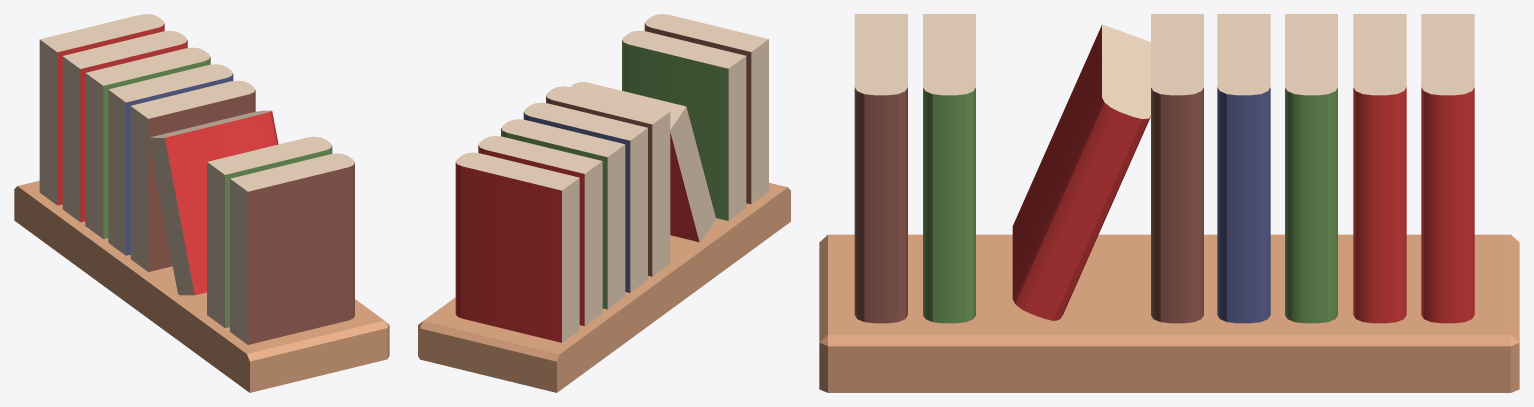
The model's file is Books.fbx.
3 renders of one model, left to right at view 1: azimuth 30°, elevation 25°; view 2: azimuth 150°, elevation 25°; view 3: azimuth 270°, elevation 25°, orthographic. The views are drawn at different scales.
Visible parts, largest first — view 1: Book.009, Shelf.003, Book.016, Book.011, Book.014, Book.015, Book.013, Book.010, Book.012; view 2: Book.015, Shelf.003, Book.010, Book.013, Book.014, Book.009, Book.012, Book.011, Book.016; view 3: Shelf.003, Book.016, Book.012, Book.014, Book.015, Book.009, Book.010, Book.011, Book.013.
Boxes of the visible parts, x1,y1,x2,y2 form: Book.009: (230, 153, 354, 344); Shelf.003: (14, 180, 389, 392); Book.016: (148, 110, 278, 295); Book.011: (130, 80, 255, 271); Book.014: (62, 30, 187, 222); Book.015: (39, 14, 164, 205); Book.013: (85, 47, 210, 238); Book.010: (207, 136, 332, 327); Book.012: (108, 64, 233, 255); Book.015: (455, 152, 579, 342); Shelf.003: (418, 182, 790, 392); Book.010: (622, 30, 746, 220); Book.013: (501, 119, 625, 309); Book.014: (478, 136, 602, 326); Book.009: (644, 14, 768, 204); Book.012: (523, 102, 647, 292); Book.011: (546, 86, 670, 276); Book.016: (570, 82, 716, 242); Shelf.003: (819, 234, 1519, 392); Book.016: (1012, 24, 1150, 320); Book.012: (1217, 14, 1270, 323); Book.014: (1353, 14, 1406, 323); Book.015: (1421, 14, 1474, 323); Book.009: (854, 14, 907, 323); Book.010: (923, 14, 975, 323); Book.011: (1151, 14, 1203, 323); Book.013: (1285, 14, 1337, 323).
Bounding box in the file's own units: 13.99 × 17.81 × 40.
